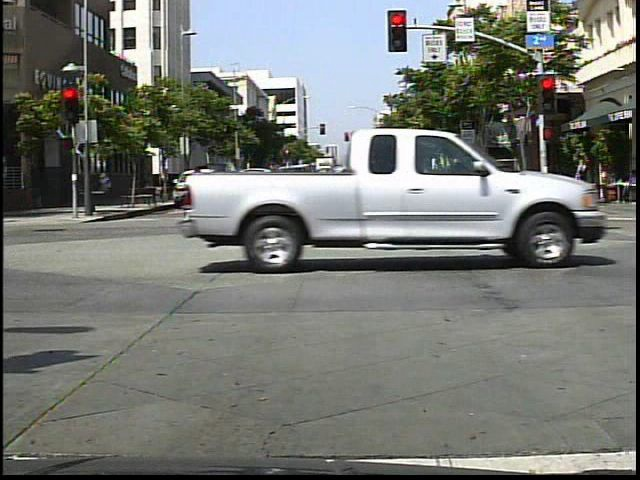person: (368, 163, 402, 231), (417, 161, 448, 225), (177, 166, 210, 225), (572, 157, 594, 206)
